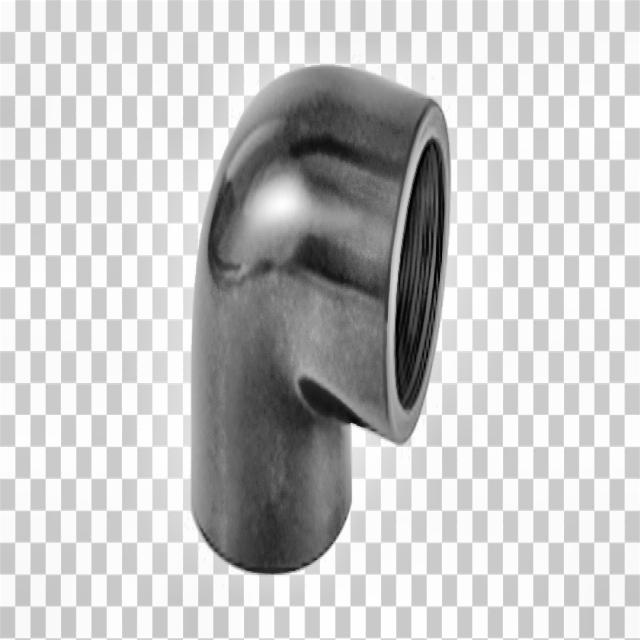ELBOW90: (190, 65, 456, 578)
